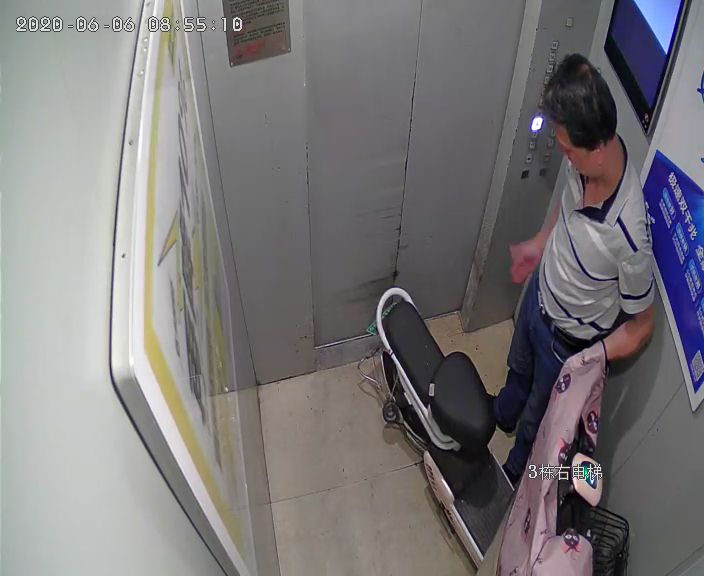Electric-bicycle: (371, 288, 631, 574)
